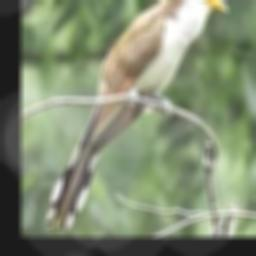Cuckoo: (45, 0, 226, 230)
